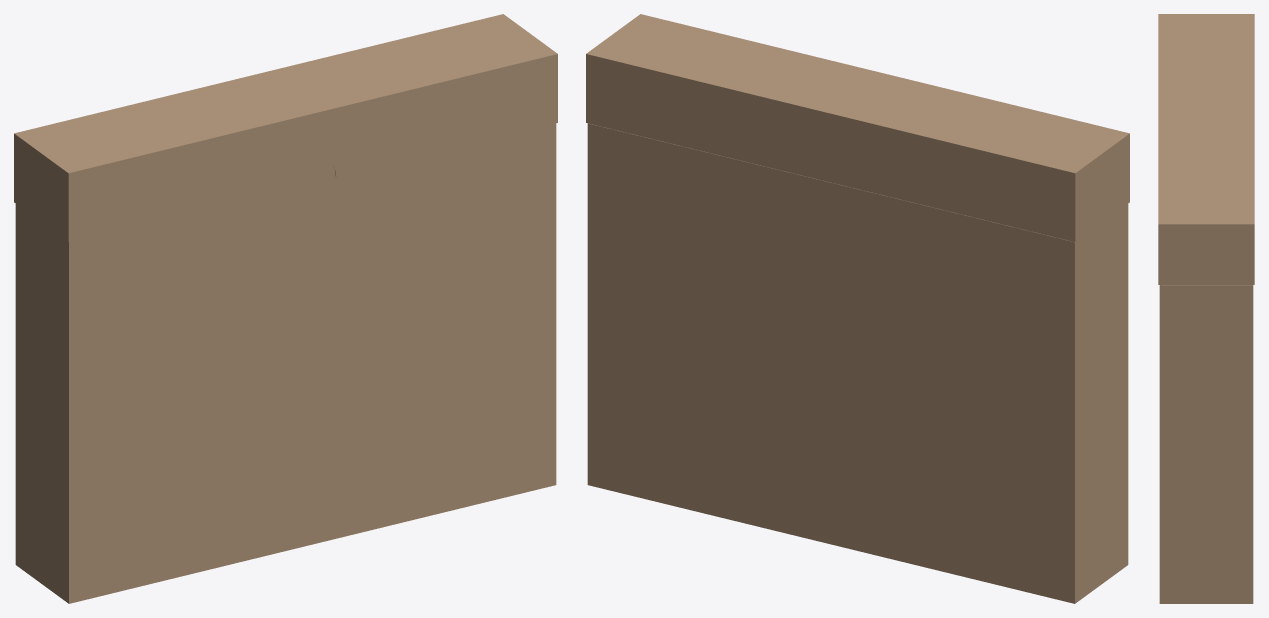
File: preroll-52gr-box-standart-closed.glb
3 renders of one model, left to right at view 1: azimuth 30°, elevation 25°; view 2: azimuth 150°, elevation 25°; view 3: azimuth 270°, elevation 25°, orthographic. The views are drawn at different scales.
Parts seen in each view (by area): view 1: p2s_b1, p2s_l1, p2s_l0, p2s_b3, p2s_l3; view 2: p2s_b2, p2s_l2, p2s_l0, p2s_b3, p2s_l3; view 3: p2s_b4, p2s_l0, p2s_l4, p2s_b1, p2s_b2, p2s_l2, p2s_l1, p2s_b0.
Boxes of the visible parts, x1=… form: p2s_b1: x1=68, y1=123, x2=556, y2=603; p2s_l1: x1=67, y1=56, x2=556, y2=241; p2s_l0: x1=14, y1=14, x2=557, y2=174; p2s_b3: x1=15, y1=204, x2=70, y2=603; p2s_l3: x1=14, y1=133, x2=69, y2=241; p2s_b2: x1=587, y1=123, x2=1075, y2=603; p2s_l2: x1=586, y1=54, x2=1076, y2=241; p2s_l0: x1=586, y1=14, x2=1129, y2=174; p2s_b3: x1=1073, y1=204, x2=1128, y2=603; p2s_l3: x1=1074, y1=133, x2=1128, y2=241; p2s_b4: x1=1159, y1=285, x2=1253, y2=603; p2s_l0: x1=1158, y1=14, x2=1254, y2=225; p2s_l4: x1=1158, y1=224, x2=1254, y2=284; p2s_b1: x1=1159, y1=285, x2=1160, y2=603; p2s_b2: x1=1252, y1=285, x2=1253, y2=602; p2s_l2: x1=1253, y1=14, x2=1254, y2=284; p2s_l1: x1=1158, y1=21, x2=1159, y2=284; p2s_b0: x1=1159, y1=602, x2=1253, y2=603.
Bounding box in the file's own units: 0.1487 × 0.1253 × 0.0287.
